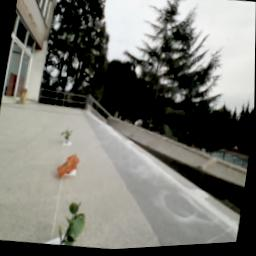herb: (56, 197, 92, 250), (60, 128, 75, 148)
wild: (55, 154, 82, 184)
